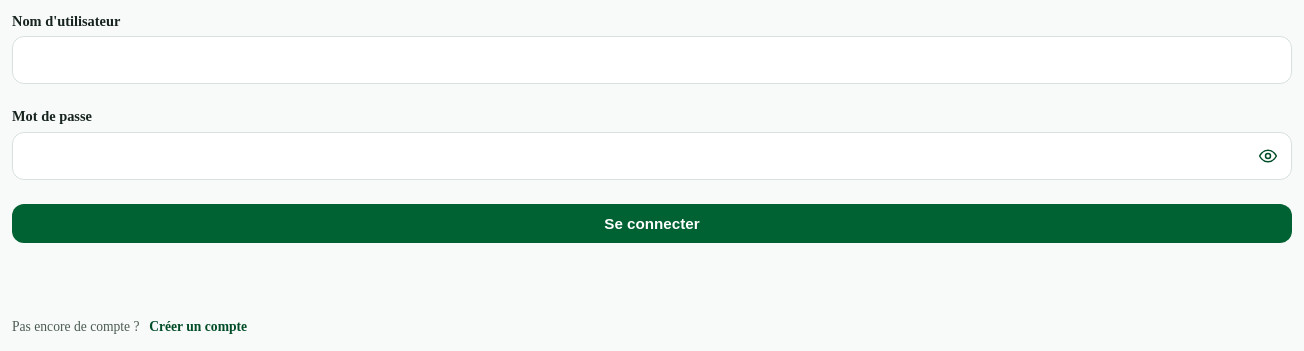
Test: LoginForm › shows one identical, non-field-specific error for both an unknown username and a wrong password
This screenshot has width=1304, height=351.
Type "jean-dupont_92" into the field labelled "Nom d'utilisateur" at {"x": 652, "y": 60}, box [12, 36, 1292, 84]
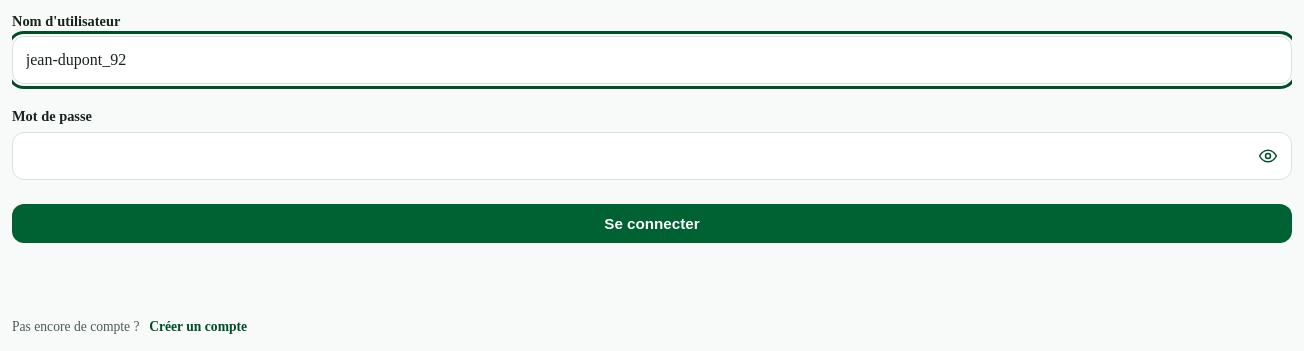
Type "wrong-password" into the password field labelled "Mot de passe" at {"x": 652, "y": 156}, box [12, 132, 1292, 180]
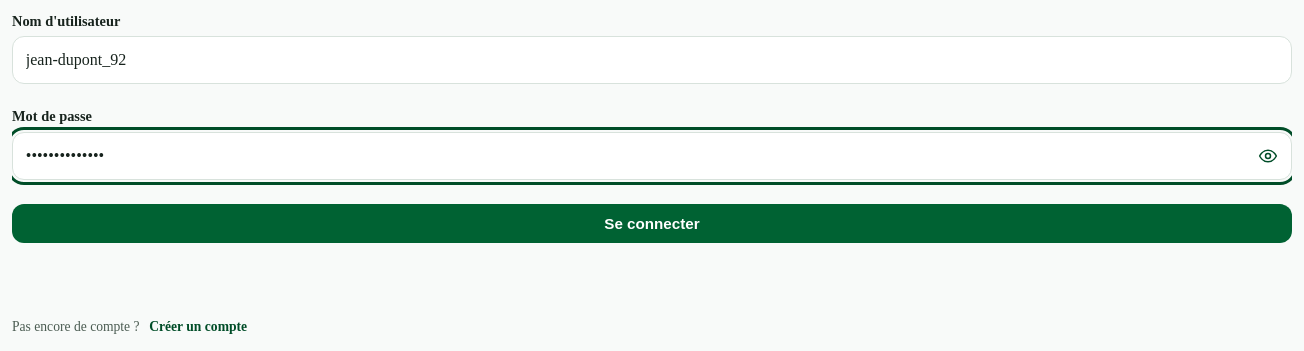
Click the button "Se connecter" at {"x": 652, "y": 224}, box [12, 204, 1292, 243]
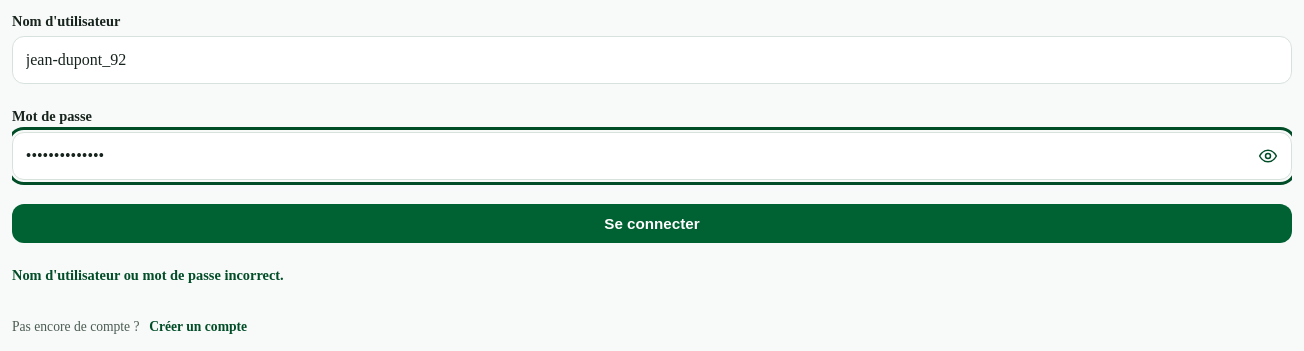
Expected: the text "Nom d'utilisateur ou mot de passe incorrect." is shown, [12, 267, 284, 283]
